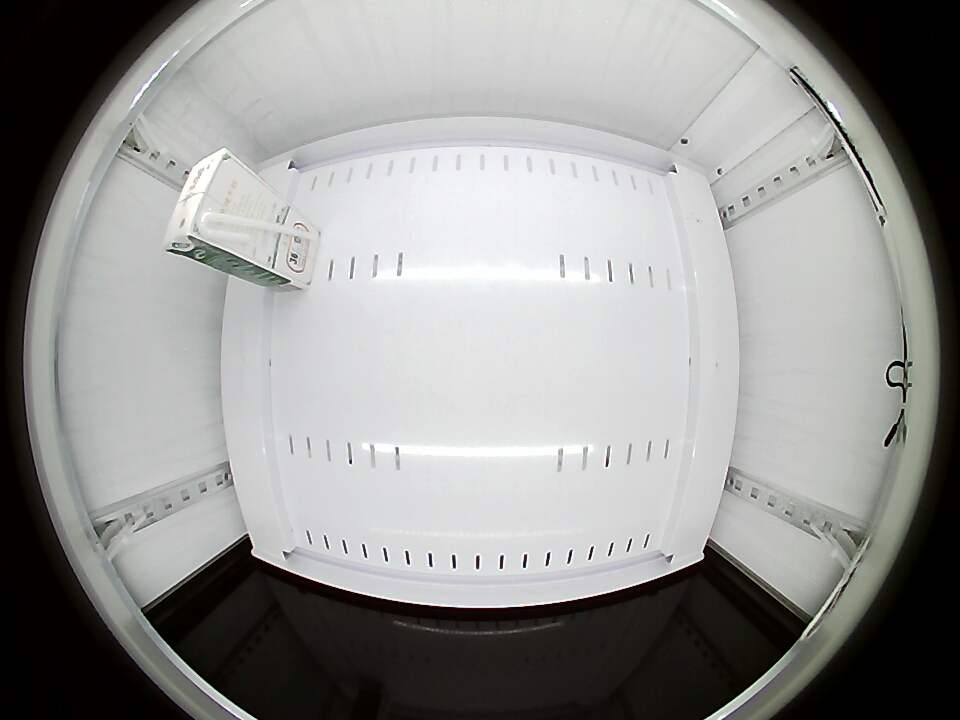jindian: (163, 148, 254, 262)
